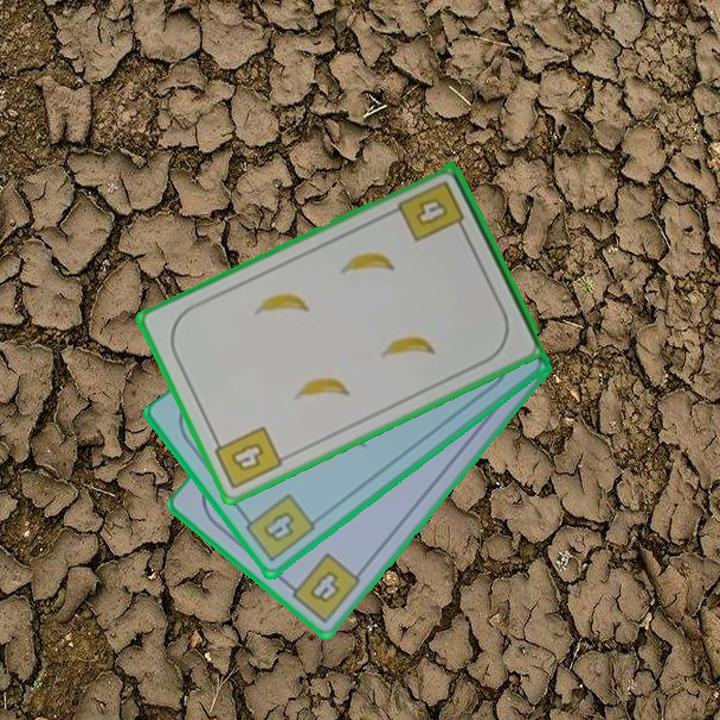4b: (281, 549, 364, 626), (238, 490, 319, 565), (209, 422, 286, 493), (394, 177, 469, 246)
